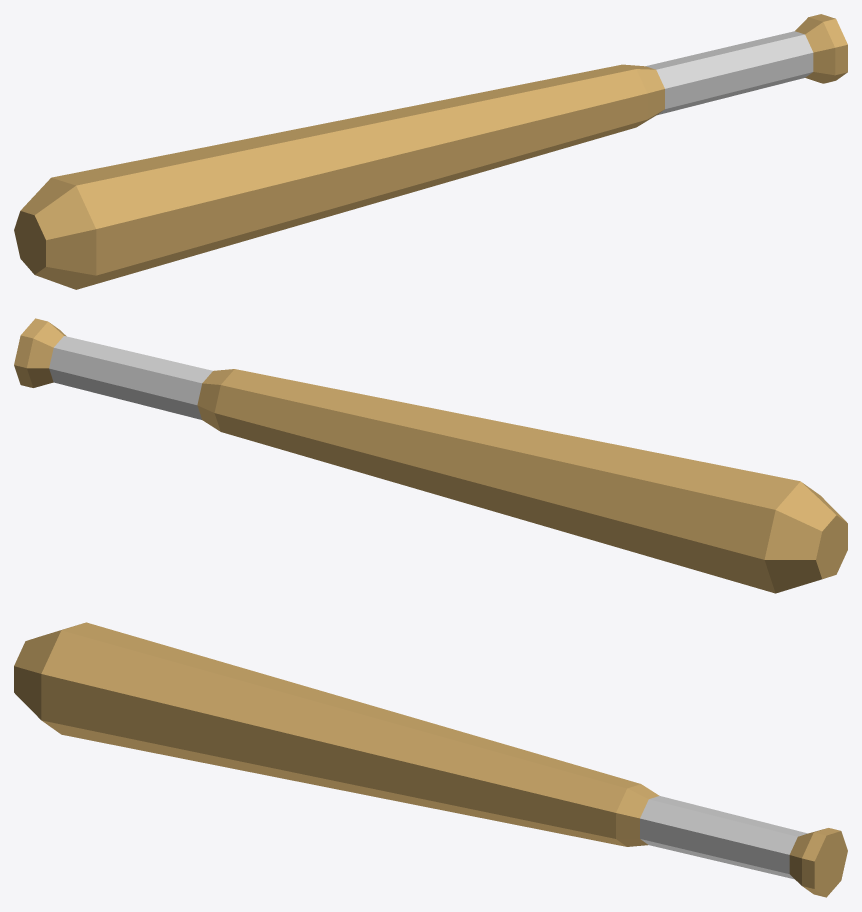
The model's file is baseballbat.fbx.
The picture shows the model from 3 angles, top to bottom: view 1: azimuth 30°, elevation 25°; view 2: azimuth 150°, elevation 25°; view 3: azimuth 330°, elevation 25°; orthographic projection.
Visible parts, largest first — view 1: Cylinder; view 2: Cylinder; view 3: Cylinder.
Part boxes in pixels (x1,y1,x2,y2): Cylinder: (14,14,847,289); Cylinder: (14,318,847,593); Cylinder: (14,622,847,897).
Bounding box in the file's own units: 2.22 × 0.2764 × 0.2695.
